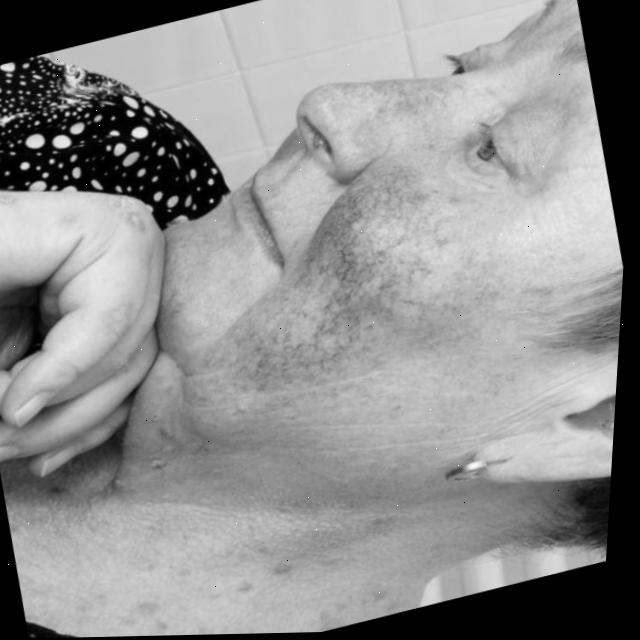Rosacea: (225, 157, 460, 387)
